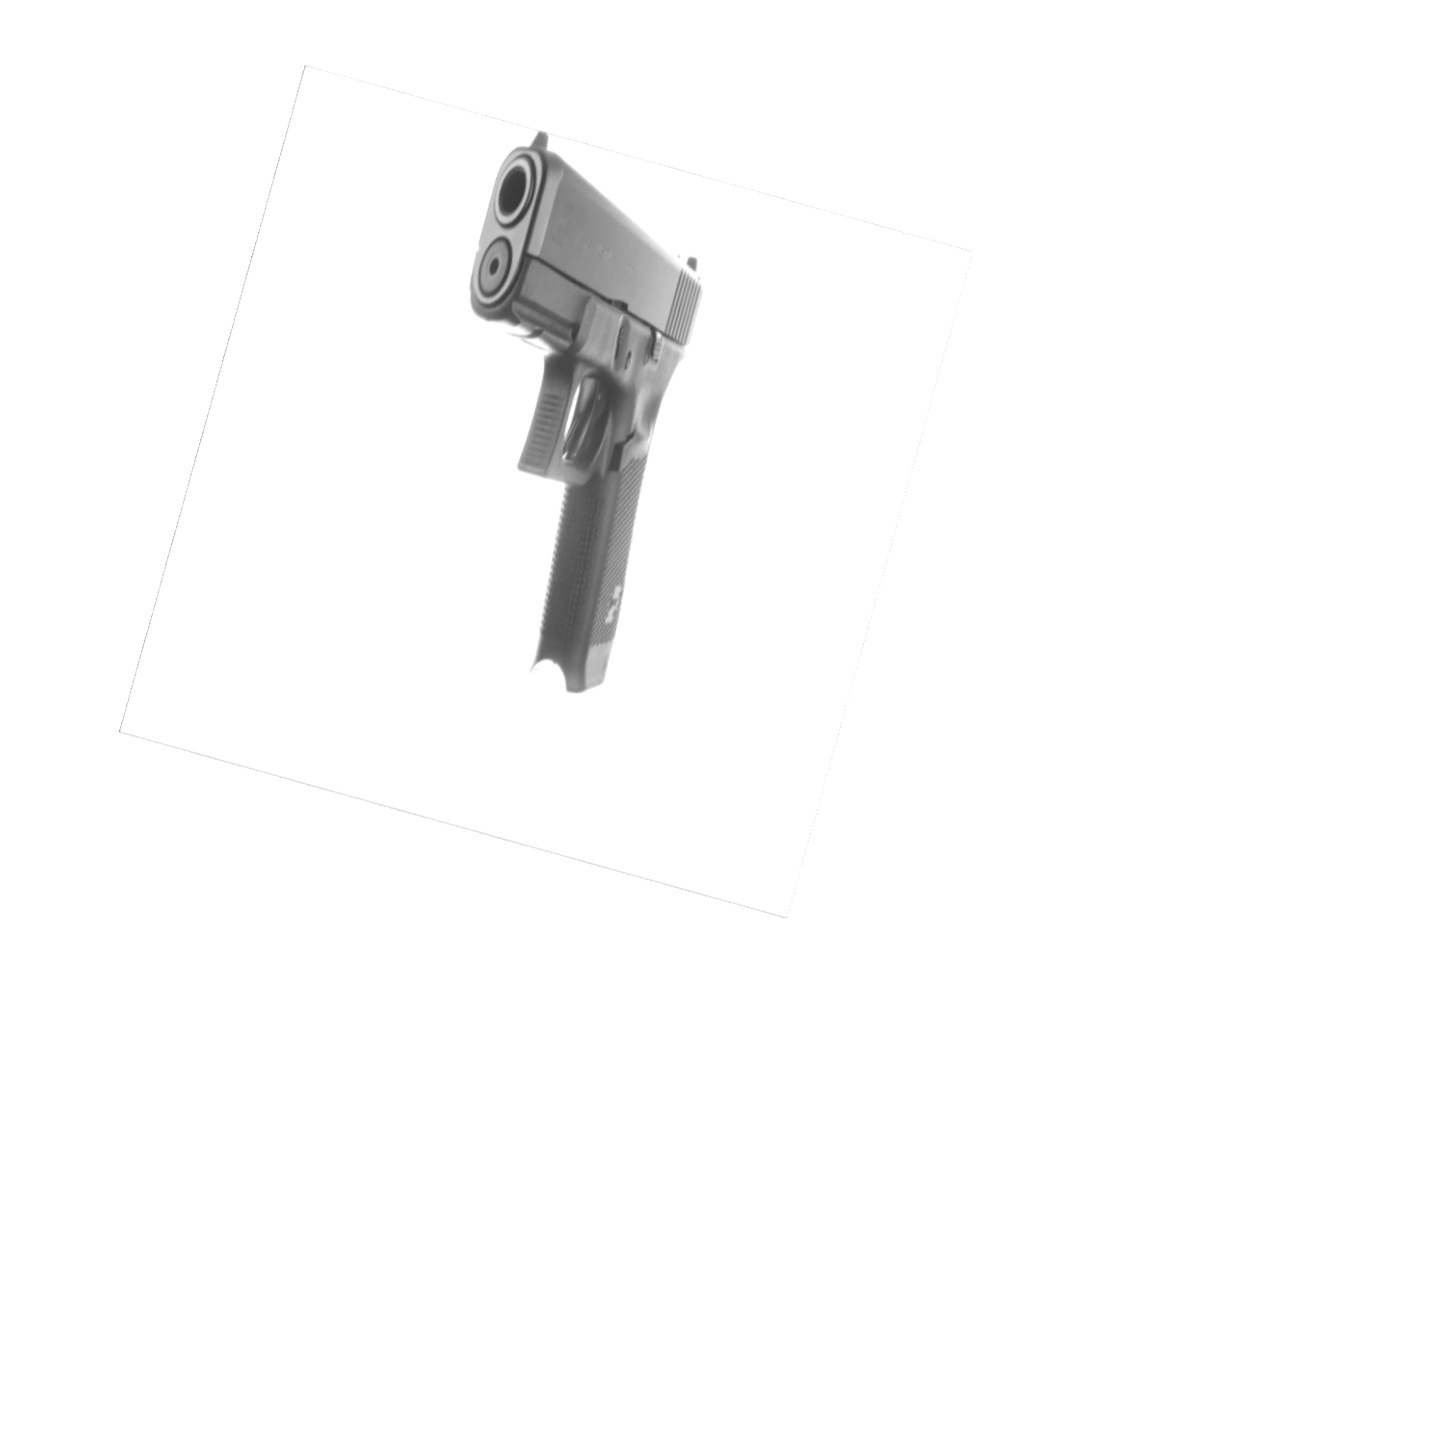gun: (450, 125, 710, 695)
